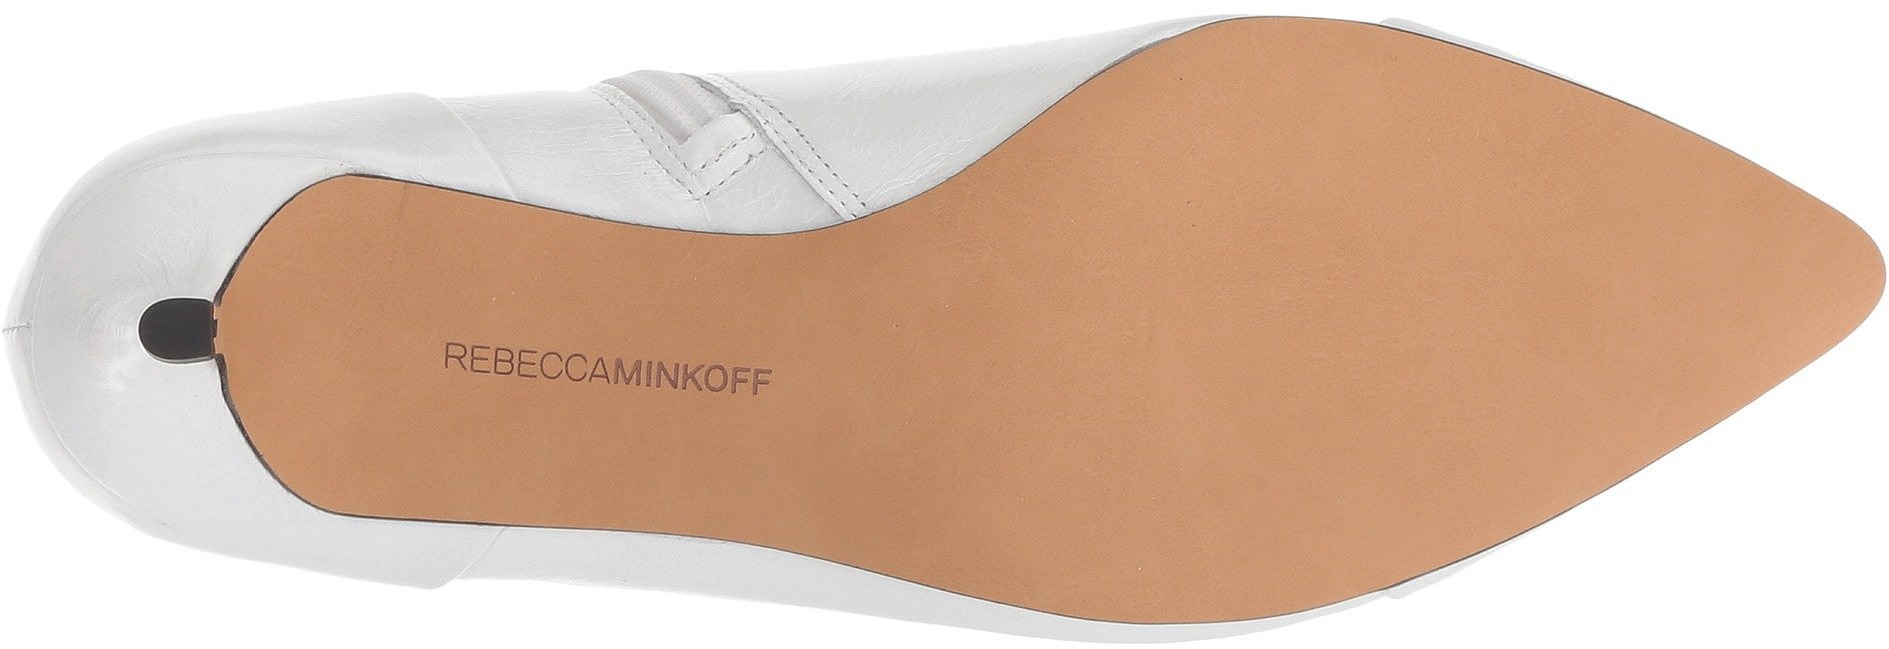other: (1307, 105, 1575, 362), (1035, 144, 1290, 373), (784, 250, 1026, 486), (1032, 379, 1261, 604), (1581, 178, 1778, 384), (1269, 378, 1463, 557), (235, 293, 410, 446), (154, 303, 204, 355)
text: (512, 328, 598, 412), (604, 337, 689, 420), (693, 340, 775, 421), (429, 321, 504, 405)
